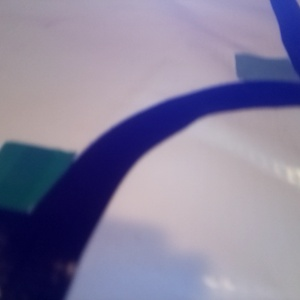bottom_left: (97, 54, 185, 96)
